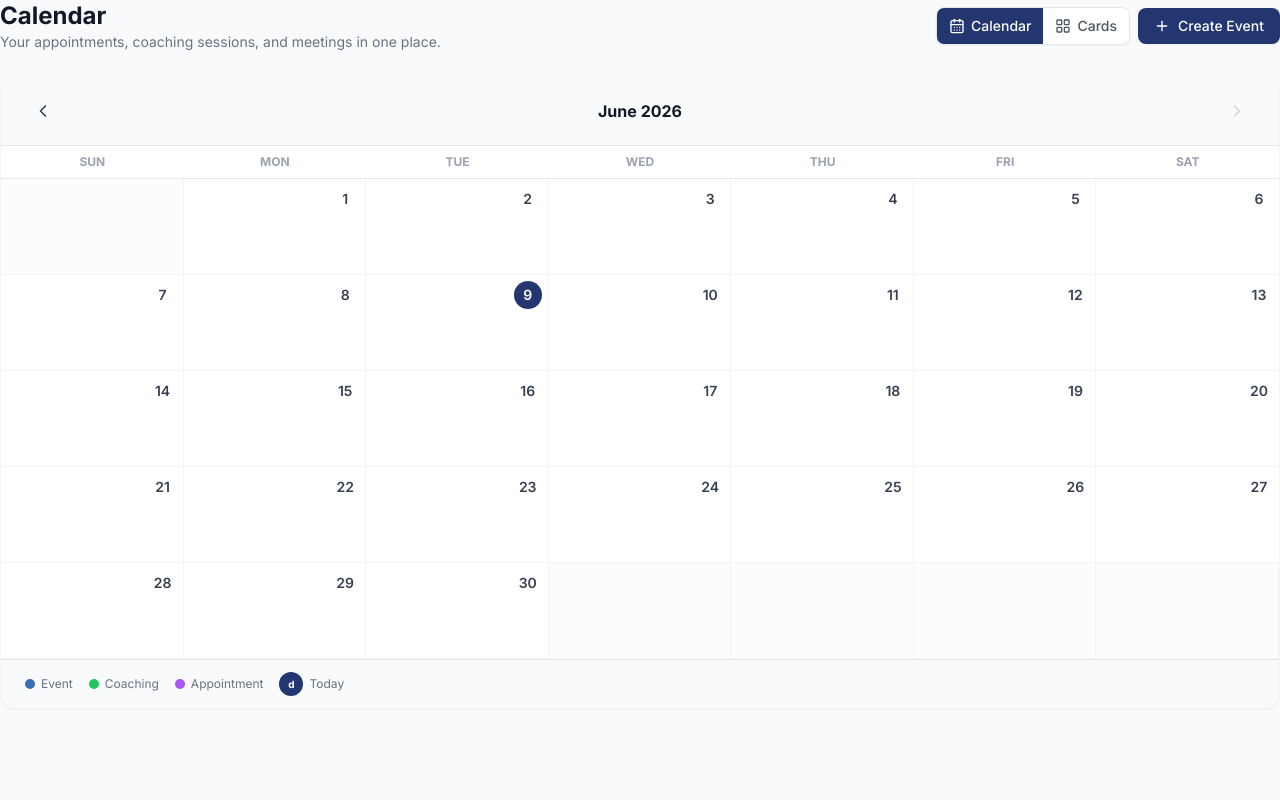
Test case: MyCalendar — Create Event Audience section › shows all groups in Audience section for master_trainer
The image size is (1280, 800).
Step 1. Click the button "Create Event" → click(1209, 26), box [1138,8,1279,44]
(page scrolled)
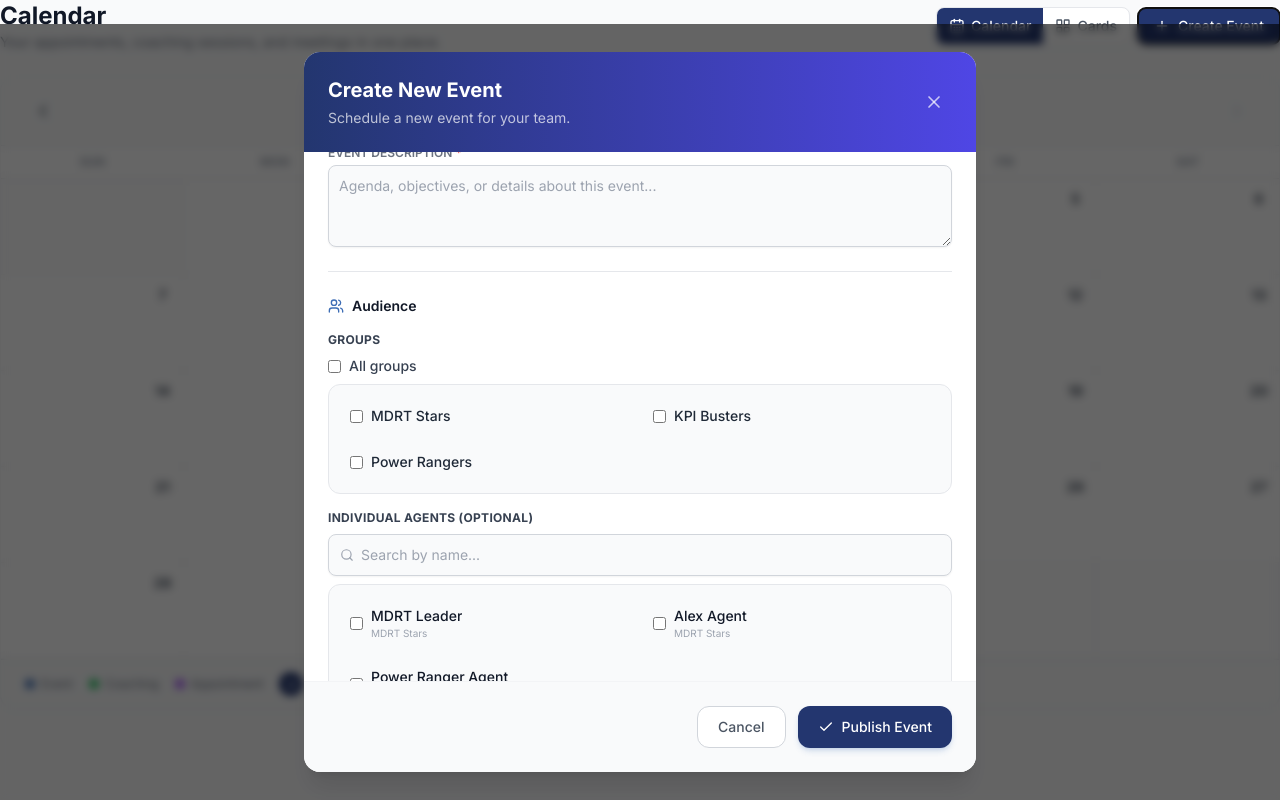
Expected: the text "MDRT Stars" in the row of "KPI Busters" is shown, [371,407,451,424]
Expected: the text "KPI Busters" is shown, [674,406,751,426]
